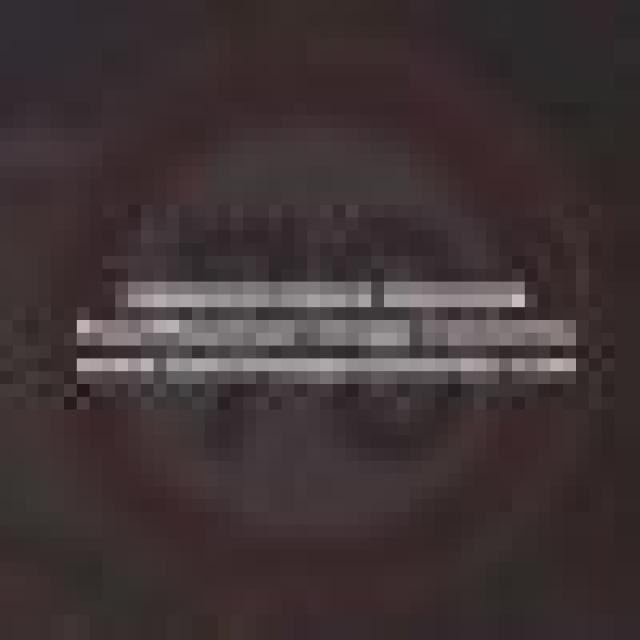SPEED_LIMIT_70: (38, 77, 589, 576)
